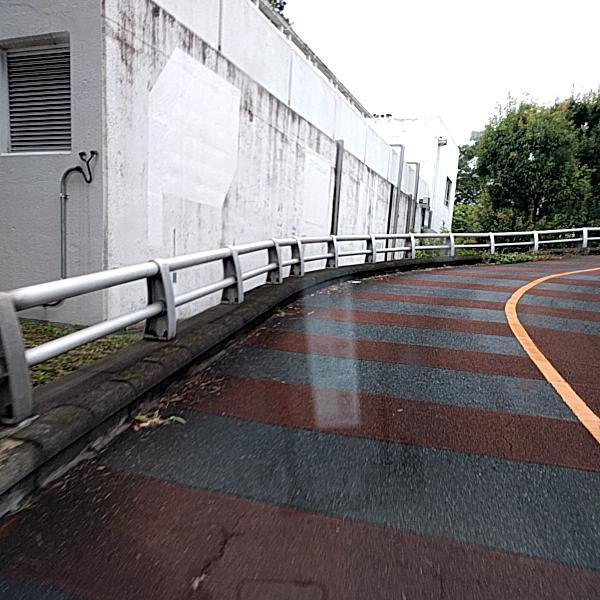D00: (176, 520, 242, 586)
